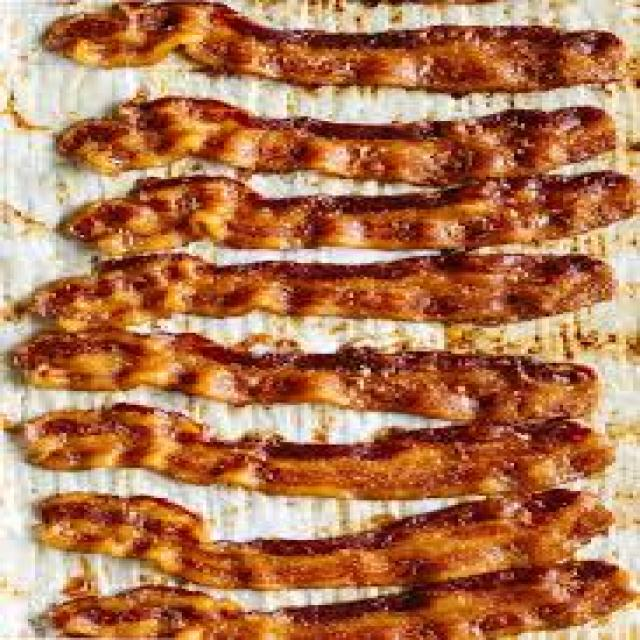Bacon: (38, 489, 612, 589), (17, 405, 614, 499), (13, 331, 599, 423), (43, 1, 626, 93), (56, 96, 614, 186), (60, 171, 639, 254), (47, 561, 635, 639), (28, 253, 614, 329)
